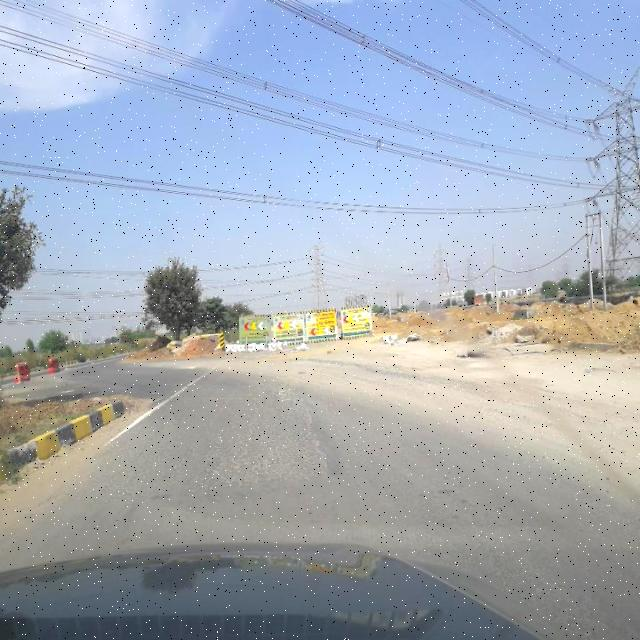D20: (177, 383, 323, 500)
